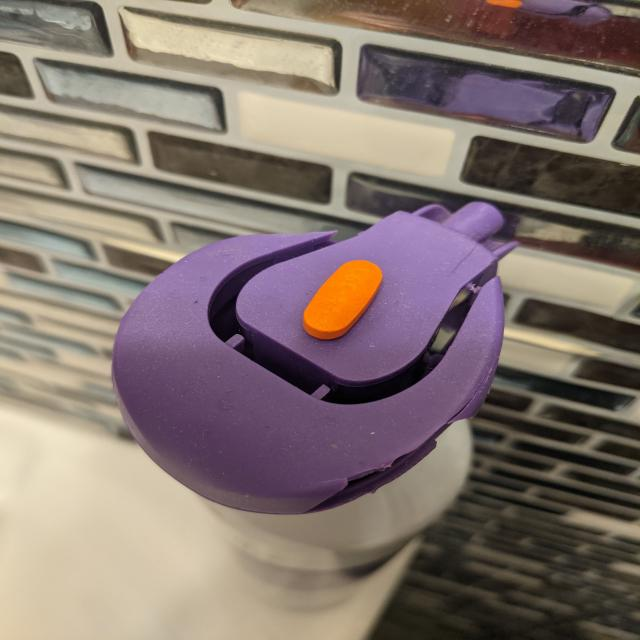non-organic waste: (301, 259, 385, 341)
